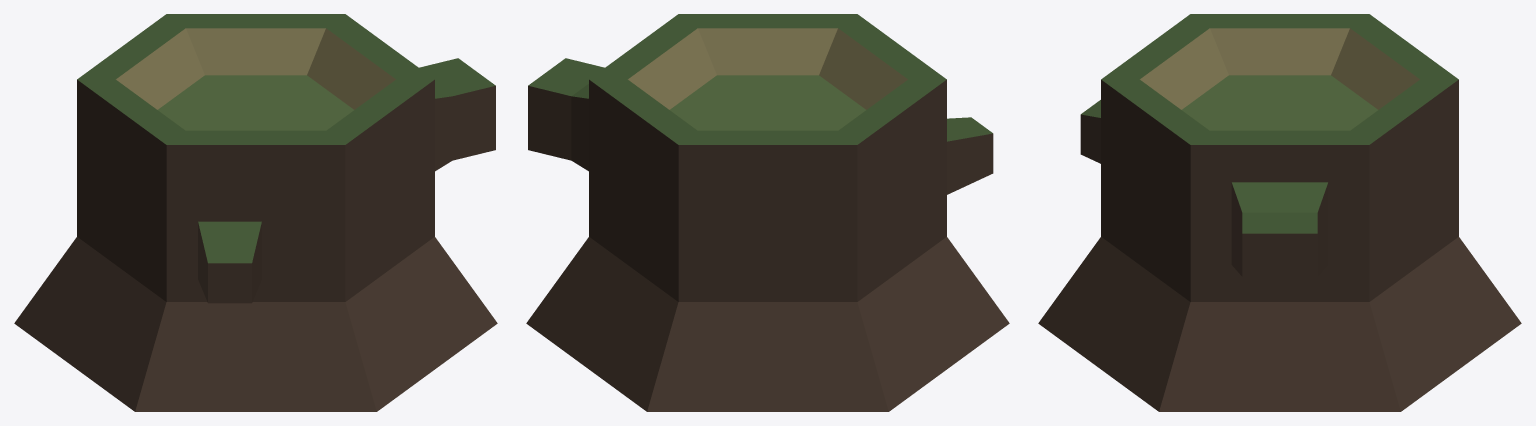
The model's file is rn_stump.glb.
3 views of the same model, side by side, from view 1: azimuth 30°, elevation 25°; view 2: azimuth 150°, elevation 25°; view 3: azimuth 270°, elevation 25° (orthographic).
Visible parts, largest first — view 1: rn_stump; view 2: rn_stump; view 3: rn_stump.
Boxes of the visible parts, x1,y1,x2,y2 form: rn_stump: [14, 14, 497, 411]; rn_stump: [526, 14, 1009, 411]; rn_stump: [1038, 14, 1521, 411].
Size of the model in its own units: 0.8556 by 0.4956 by 0.8904.
